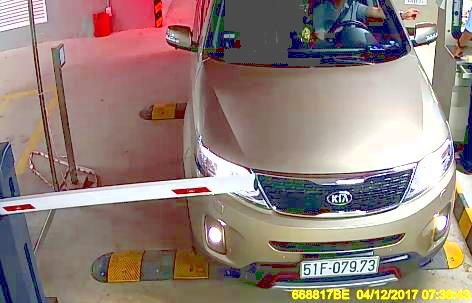plate: (301, 256, 381, 277)
